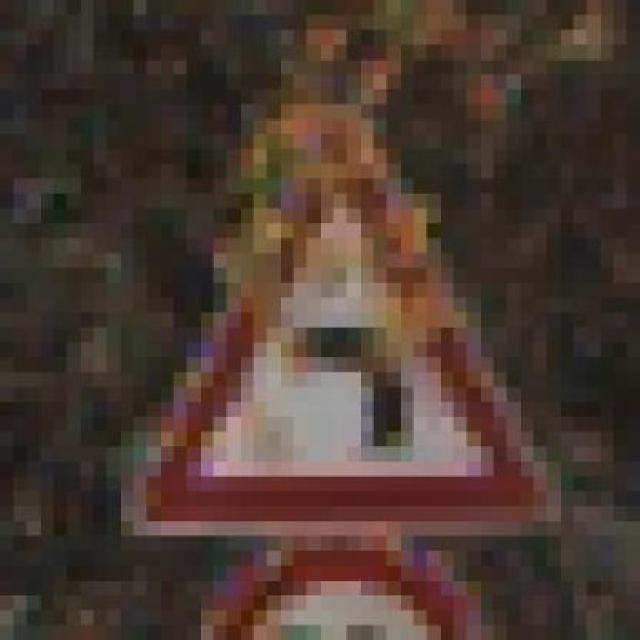Dangerous Left Curve Ahead: (120, 89, 574, 551)
